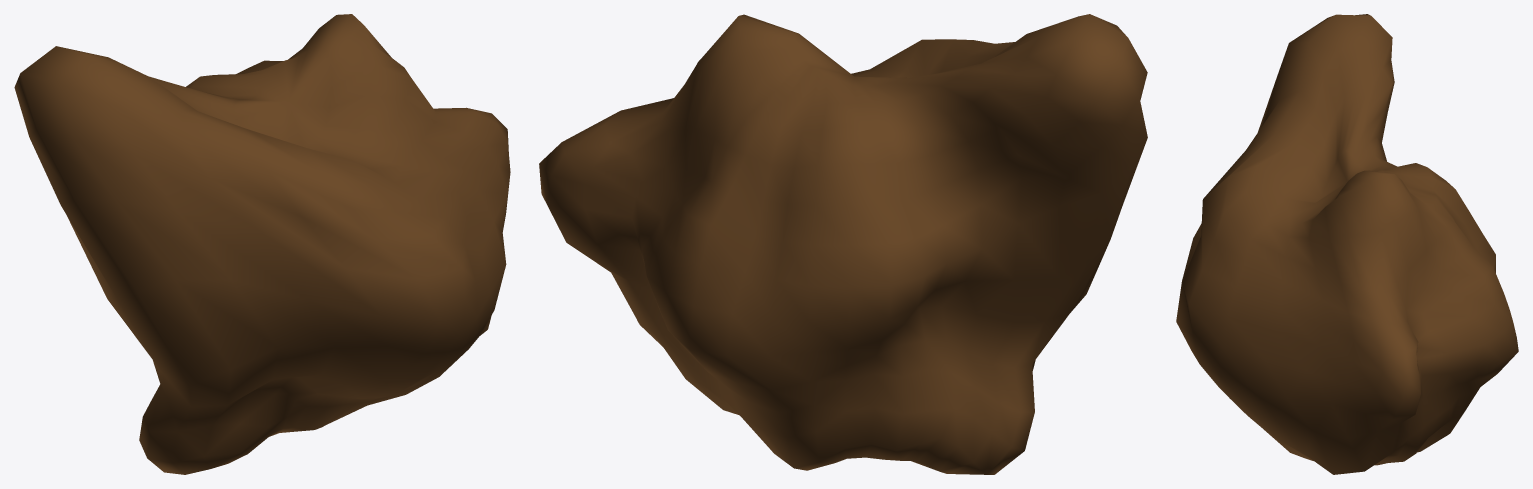
File: Asteroids2.fbx
3 renders of one model, left to right at view 1: azimuth 30°, elevation 25°; view 2: azimuth 150°, elevation 25°; view 3: azimuth 270°, elevation 25°, orthographic. The views are drawn at different scales.
Visible parts, largest first — view 1: Sphere; view 2: Sphere; view 3: Sphere.
Part boxes in pixels (box(x1,y1,x2,y2)): Sphere: box(14, 14, 510, 474); Sphere: box(539, 14, 1147, 474); Sphere: box(1176, 14, 1518, 474).
Size of the model in its own units: 363 by 301 by 259.
